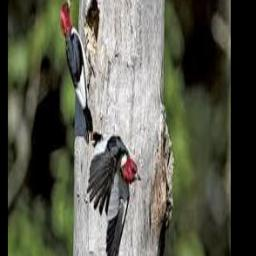Woodpecker: (87, 136, 141, 256), (61, 0, 94, 132)
